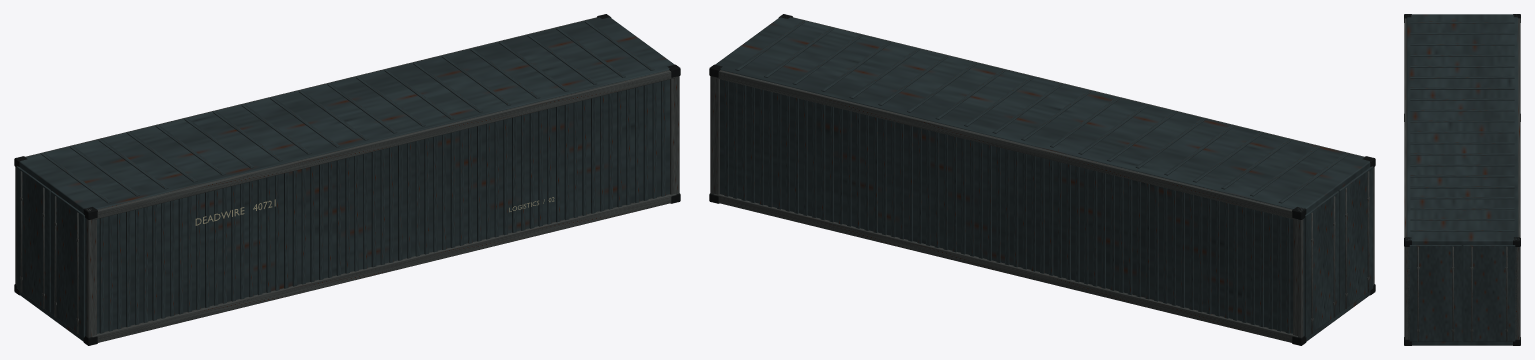
Rendered from container.glb.
3 renders of one model, left to right at view 1: azimuth 30°, elevation 25°; view 2: azimuth 150°, elevation 25°; view 3: azimuth 270°, elevation 25°, orthographic. The views are drawn at different scales.
Parts seen in each view (by area): view 1: body_slate, body_steel, body_darksteel; view 2: body_slate, body_steel, body_darksteel; view 3: body_slate, body_steel, body_darksteel.
Boxes of the visible parts, x1=… form: body_slate: x1=16, y1=17, x2=674, y2=341; body_steel: x1=15, y1=17, x2=679, y2=342; body_darksteel: x1=14, y1=14, x2=680, y2=345; body_slate: x1=715, y1=17, x2=1373, y2=341; body_steel: x1=710, y1=17, x2=1374, y2=342; body_darksteel: x1=709, y1=14, x2=1375, y2=345; body_slate: x1=1406, y1=14, x2=1518, y2=345; body_steel: x1=1404, y1=18, x2=1520, y2=341; body_darksteel: x1=1404, y1=14, x2=1520, y2=345.
Bounding box in the file's own units: 12.11 × 2.63 × 2.61.
Materials: 4 (4 with a texture image).
